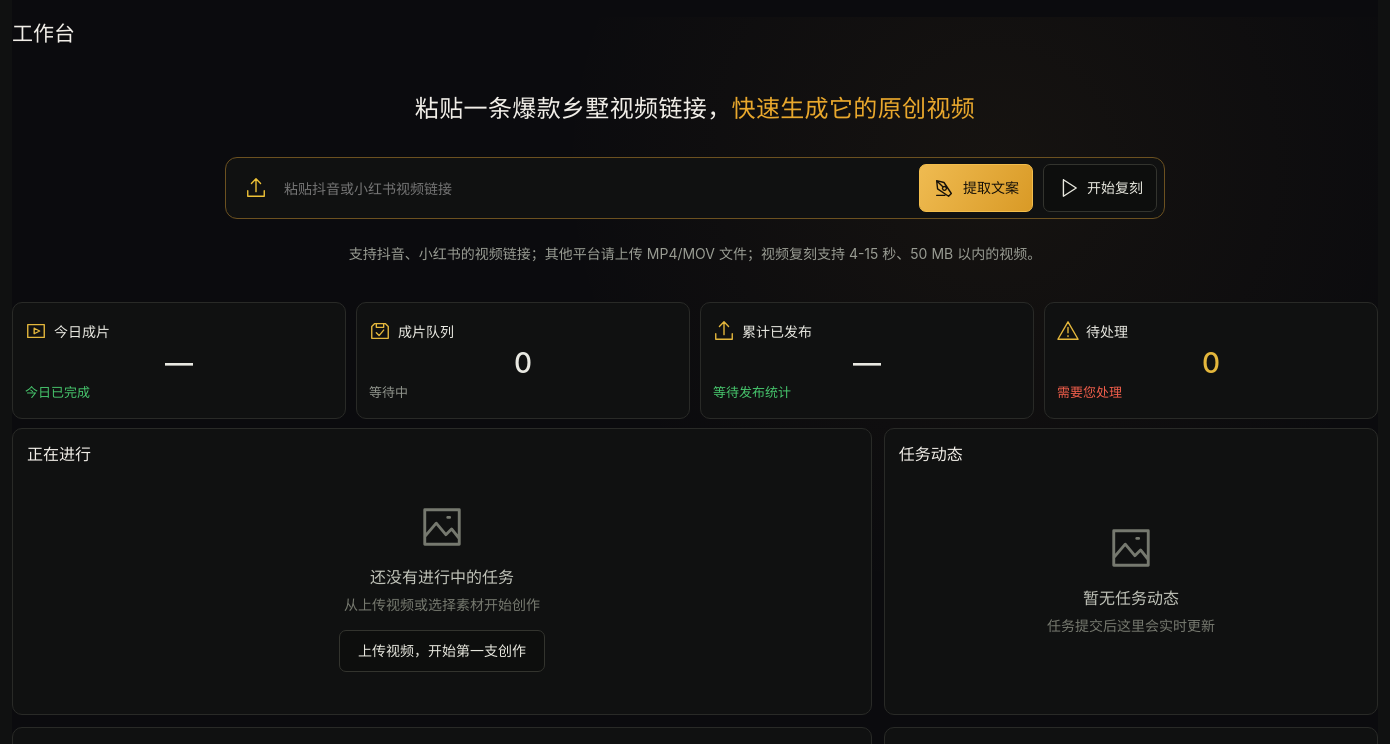
Test case: V1.4 工作台上传与创作入口 › 链接失败显示上传回退且不创建导入任务：视频号链接暂不支持解析，请上传 MP4 或 MOV 文件。
The width and height of the screenshot is (1390, 744).
Step 1. Type "https://channels.weixin.qq.com/example" into the field labelled "视频链接" → (596, 188), box top-left (284, 174), bottom-right (909, 202)
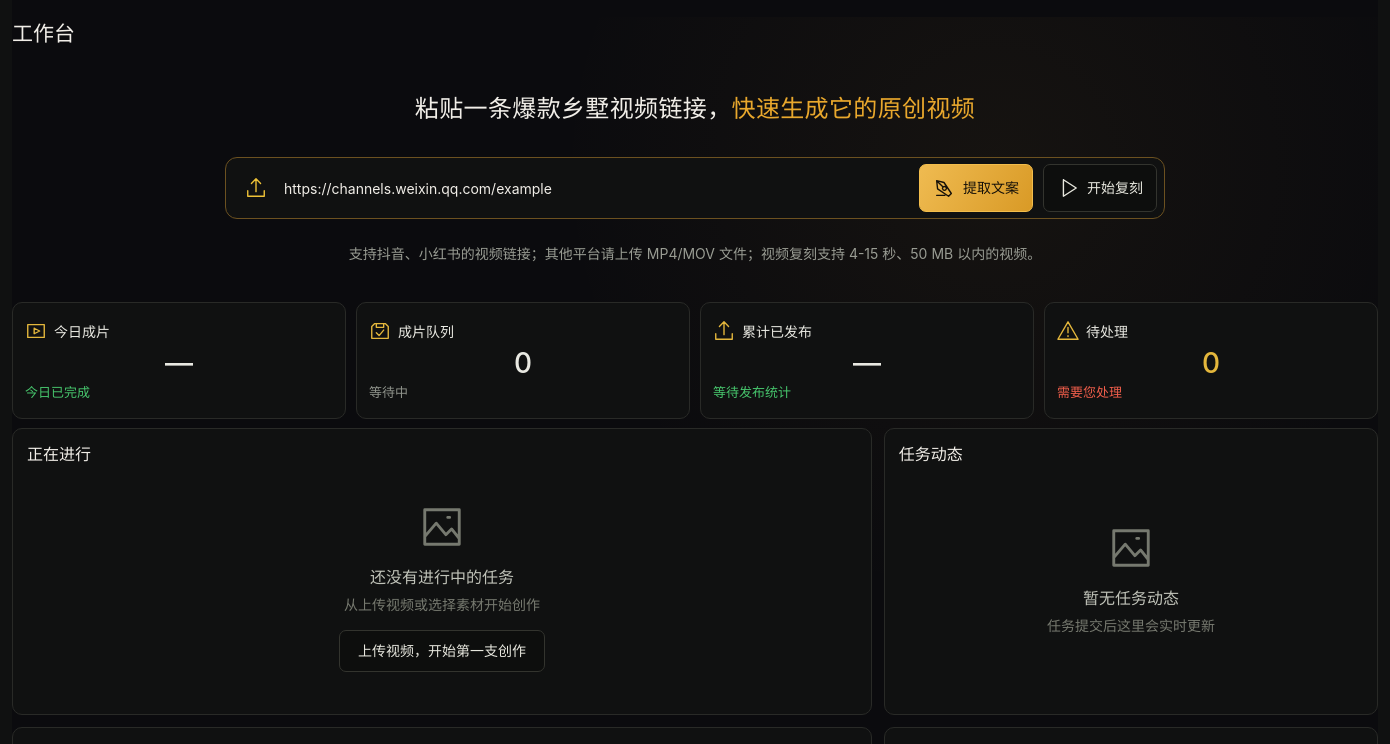
Step 2. Click the button "开始复刻" → (1100, 188), box top-left (1043, 164), bottom-right (1157, 212)
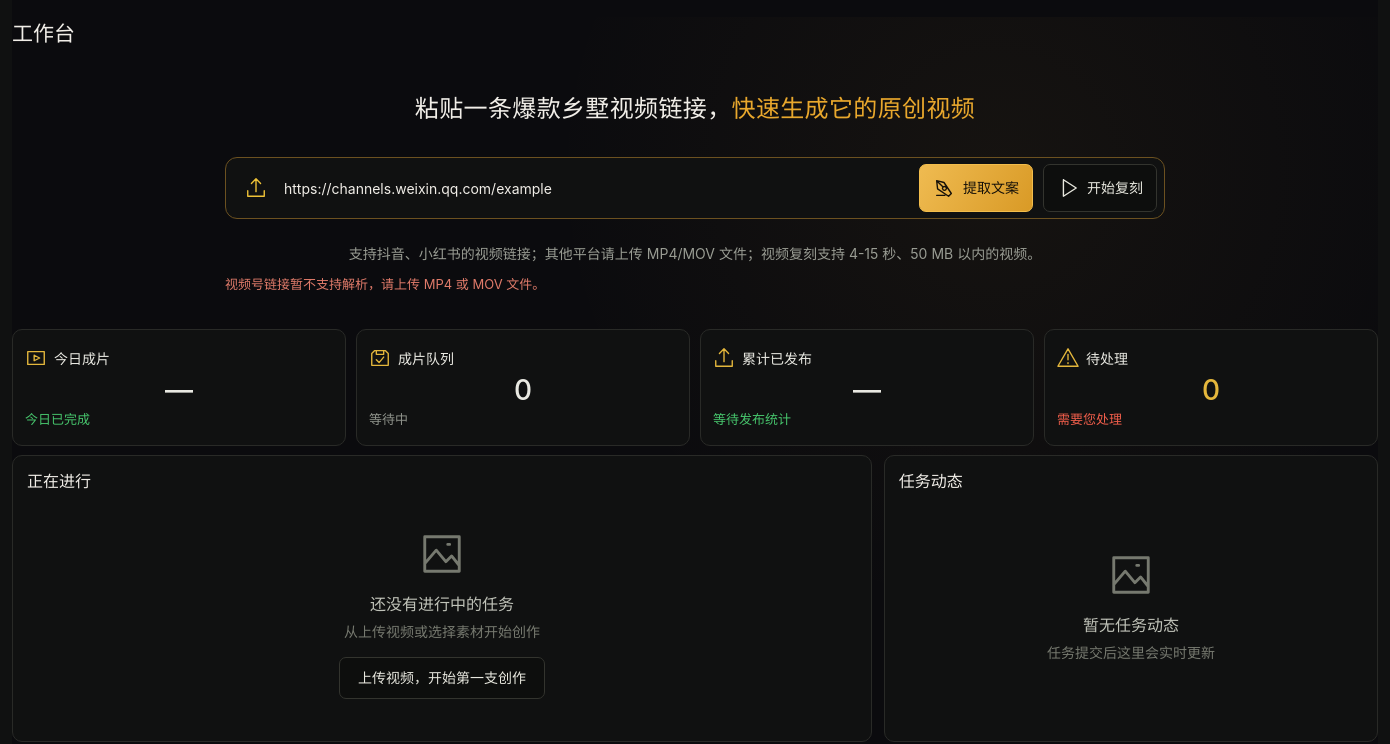
Result: the message reads "视频号链接暂不支持解析，请上传 MP4 或 MOV 文件。" at top-left (225, 276), bottom-right (545, 292)
